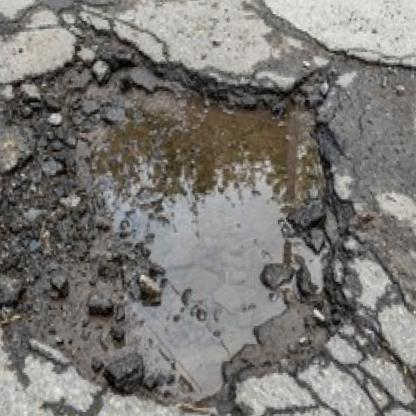pothole: (0, 21, 360, 416)
